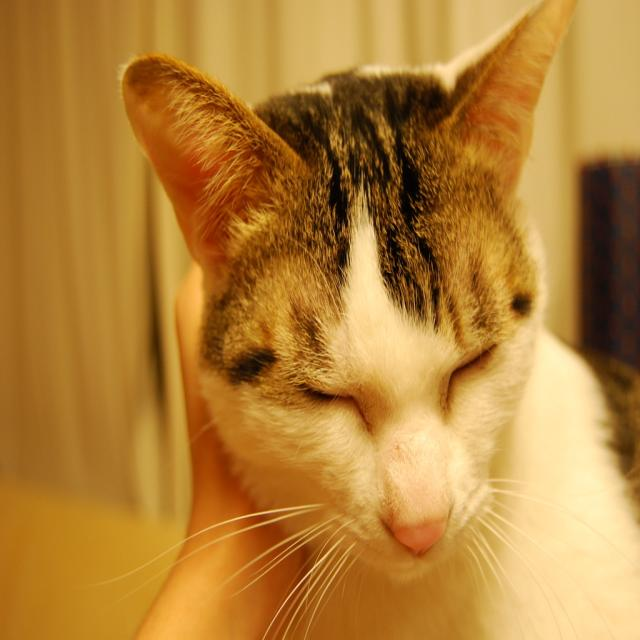Cat: (91, 0, 638, 638)
